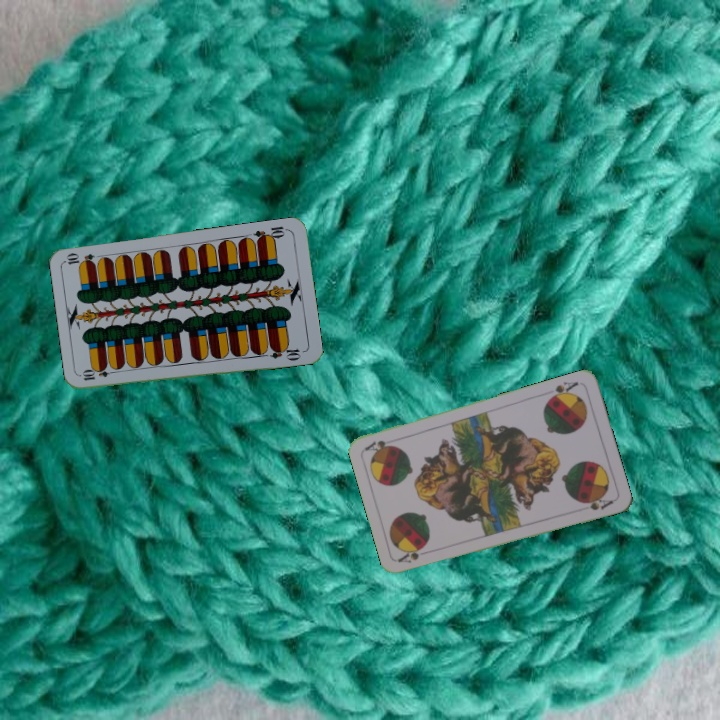E10: (250, 222, 291, 245), (79, 365, 119, 383)
SA: (545, 378, 581, 403), (395, 546, 423, 566)
